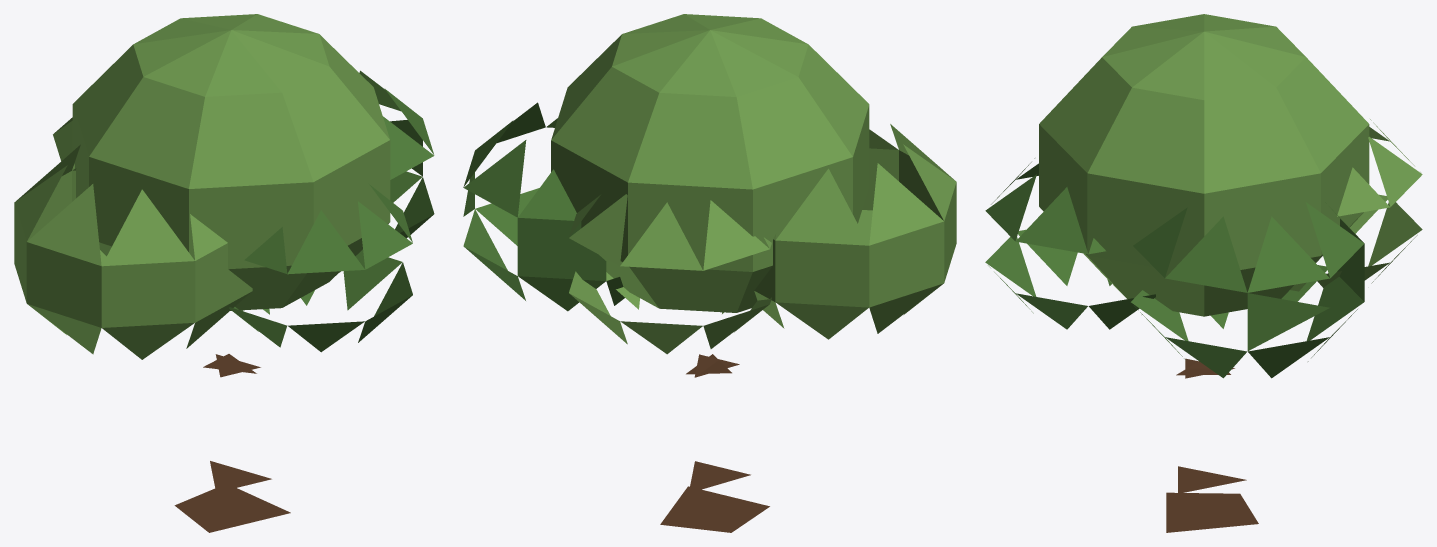
The model's file is nature_zelkova_a_lod1.glb.
The picture shows the model from 3 angles, left to right: view 1: azimuth 30°, elevation 25°; view 2: azimuth 150°, elevation 25°; view 3: azimuth 270°, elevation 25°; orthographic projection.
Parts seen in each view (by area): view 1: nature_zelkova_a_lod1; view 2: nature_zelkova_a_lod1; view 3: nature_zelkova_a_lod1.
Part boxes in pixels (x1=…): nature_zelkova_a_lod1: x1=14, y1=14, x2=434, y2=532; nature_zelkova_a_lod1: x1=463, y1=14, x2=956, y2=532; nature_zelkova_a_lod1: x1=985, y1=14, x2=1422, y2=532.
Bounding box in the file's own units: 6.93 × 7.34 × 6.05.
